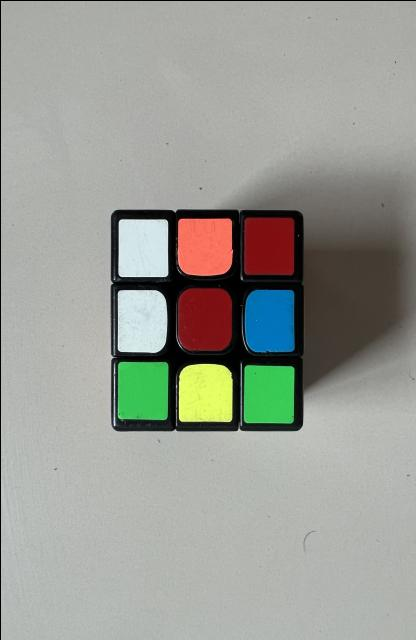Blue: (244, 289, 294, 351)
Green: (243, 364, 294, 422), (117, 361, 168, 419)
Orange: (177, 218, 232, 275)
Red: (177, 286, 232, 350), (243, 216, 294, 274)
White: (117, 289, 167, 352), (117, 219, 168, 276)
Yellow: (178, 362, 232, 421)
